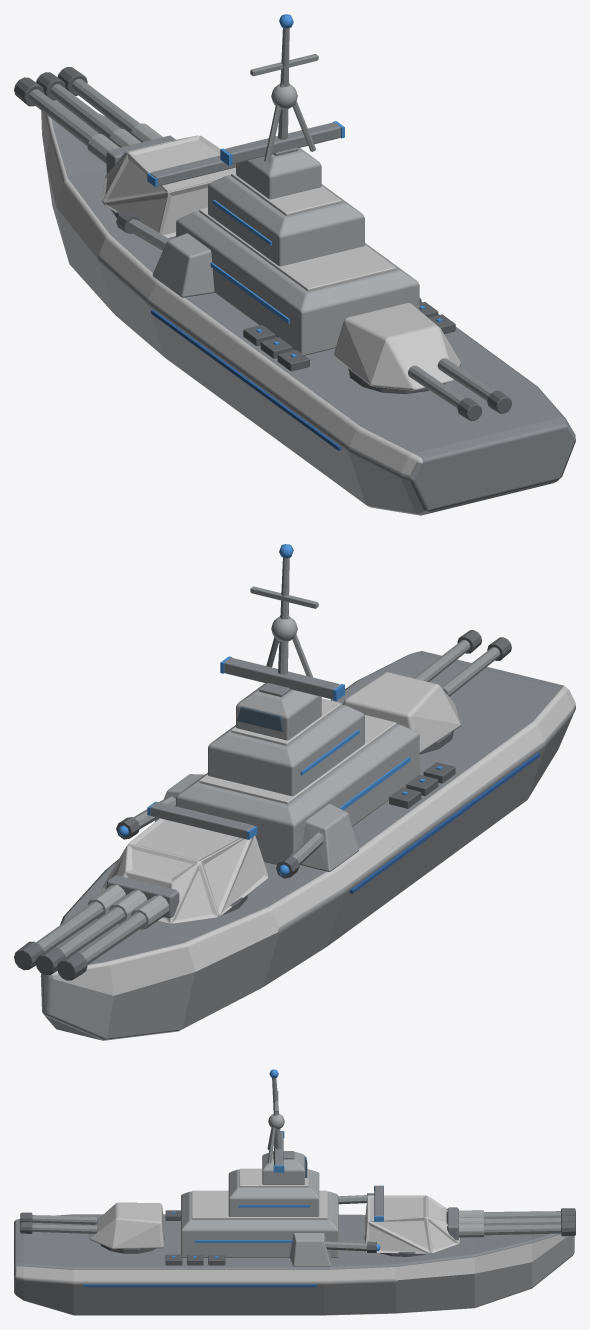
File: lattice_battleship.glb
The picture shows the model from 3 angles, top to bottom: view 1: azimuth 30°, elevation 25°; view 2: azimuth 150°, elevation 25°; view 3: azimuth 270°, elevation 25°; orthographic projection. The views are drawn at different scales.
Visible parts, largest first — view 1: Body, Turret; view 2: Body, Turret; view 3: Body, Turret.
Boxes of the visible parts, box(x1,y1,x2,y2) form: Body: box(41, 14, 575, 515); Turret: box(14, 67, 235, 238); Body: box(40, 544, 575, 1040); Turret: box(14, 801, 268, 980); Body: box(14, 1069, 574, 1315); Turret: box(364, 1185, 575, 1256).
Bounding box in the file's own units: 0.609 × 1.03 × 2.35.
